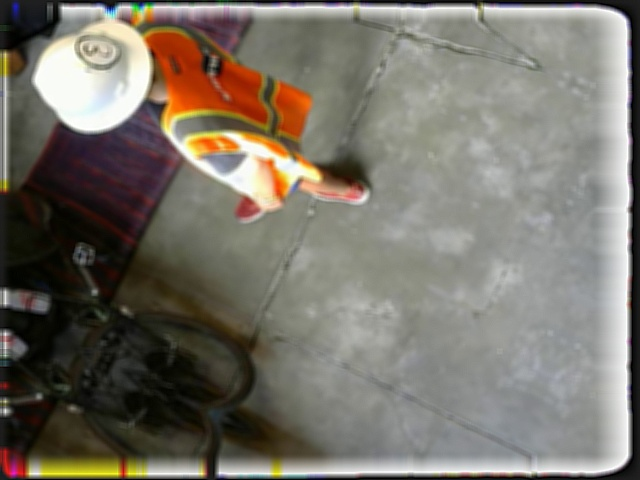three: (68, 26, 123, 75)
